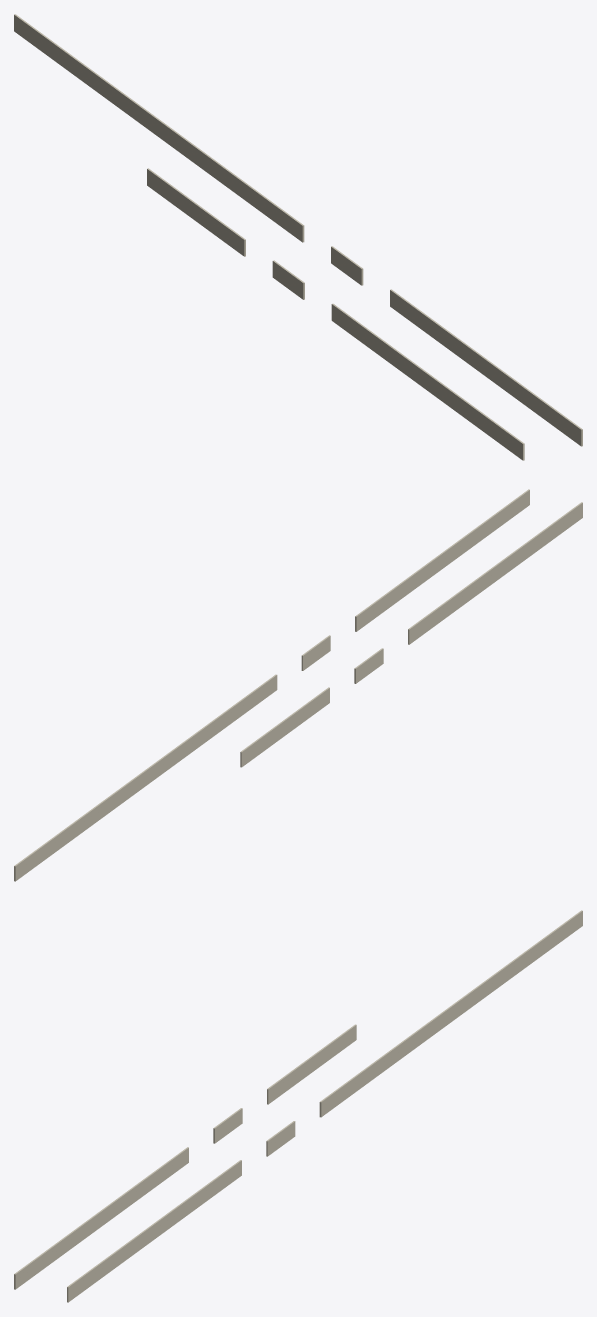
Rendered from D04_PORT_FORWARD_HOMES_FOURTH_GUARDS_r001.glb.
3 views of the same model, one above another, from view 1: azimuth 30°, elevation 25°; view 2: azimuth 150°, elevation 25°; view 3: azimuth 330°, elevation 25° (orthographic). The views are drawn at different scales.
Visible parts, largest first — view 1: D04H4_D04NR_EastGuard_0_Successor_0, D04H4_D04NR_WestGuard_1_Successor_2, D04H4_D04NR_EastGuard_0_Successor_2, D04H4_D04NR_WestGuard_1_Successor_0, D04H4_D04NR_WestGuard_1_Successor_1, D04H4_D04NR_EastGuard_0_Successor_1; view 2: D04H4_D04NR_EastGuard_0_Successor_0, D04H4_D04NR_WestGuard_1_Successor_2, D04H4_D04NR_EastGuard_0_Successor_2, D04H4_D04NR_WestGuard_1_Successor_0, D04H4_D04NR_WestGuard_1_Successor_1, D04H4_D04NR_EastGuard_0_Successor_1; view 3: D04H4_D04NR_EastGuard_0_Successor_0, D04H4_D04NR_WestGuard_1_Successor_2, D04H4_D04NR_EastGuard_0_Successor_2, D04H4_D04NR_WestGuard_1_Successor_0, D04H4_D04NR_WestGuard_1_Successor_1, D04H4_D04NR_EastGuard_0_Successor_1.
Boxes of the visible parts, <box> form: D04H4_D04NR_EastGuard_0_Successor_0: <box>14,14,304,242</box>; D04H4_D04NR_WestGuard_1_Successor_2: <box>331,303,524,460</box>; D04H4_D04NR_EastGuard_0_Successor_2: <box>390,289,582,446</box>; D04H4_D04NR_WestGuard_1_Successor_0: <box>147,168,245,256</box>; D04H4_D04NR_WestGuard_1_Successor_1: <box>272,260,304,299</box>; D04H4_D04NR_EastGuard_0_Successor_1: <box>331,246,363,285</box>; D04H4_D04NR_EastGuard_0_Successor_0: <box>14,674,277,881</box>; D04H4_D04NR_WestGuard_1_Successor_2: <box>408,502,582,644</box>; D04H4_D04NR_EastGuard_0_Successor_2: <box>355,489,529,631</box>; D04H4_D04NR_WestGuard_1_Successor_0: <box>240,687,329,767</box>; D04H4_D04NR_WestGuard_1_Successor_1: <box>354,648,383,683</box>; D04H4_D04NR_EastGuard_0_Successor_1: <box>301,635,330,670</box>; D04H4_D04NR_EastGuard_0_Successor_0: <box>319,910,582,1117</box>; D04H4_D04NR_WestGuard_1_Successor_2: <box>14,1147,188,1289</box>; D04H4_D04NR_EastGuard_0_Successor_2: <box>67,1160,241,1302</box>; D04H4_D04NR_WestGuard_1_Successor_0: <box>267,1024,356,1104</box>; D04H4_D04NR_WestGuard_1_Successor_1: <box>213,1108,242,1143</box>; D04H4_D04NR_EastGuard_0_Successor_1: <box>266,1121,295,1156</box>.
Bounding box in the file's own units: 4.34 × 1.16 × 71.2.
Materials: 1 (1 with a texture image).
